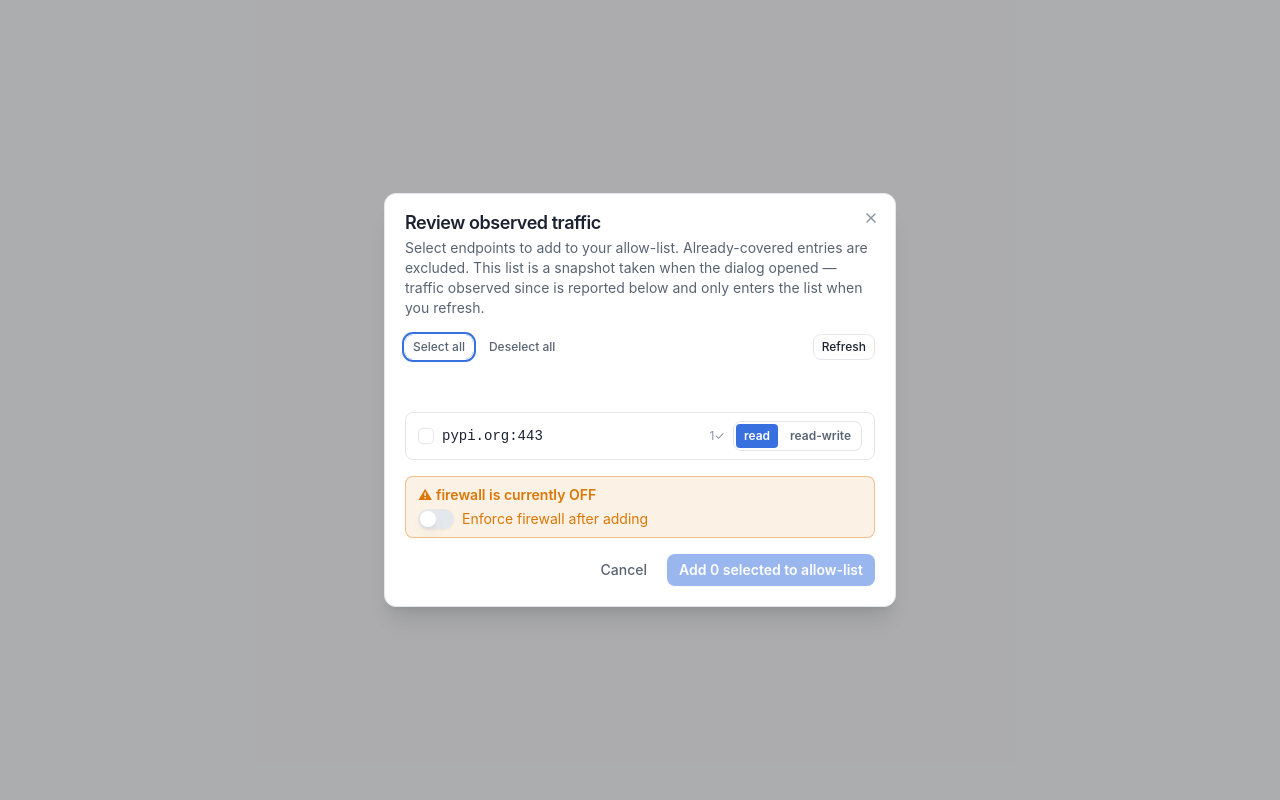
Test case: SeedDialog › surfaces an error and stays open when the apply fails
This screenshot has width=1280, height=800.
What coordinates should you click on to do the following:
click the button "Select all"
I would click on:
 (439, 347)
Its box is [405, 335, 473, 359].
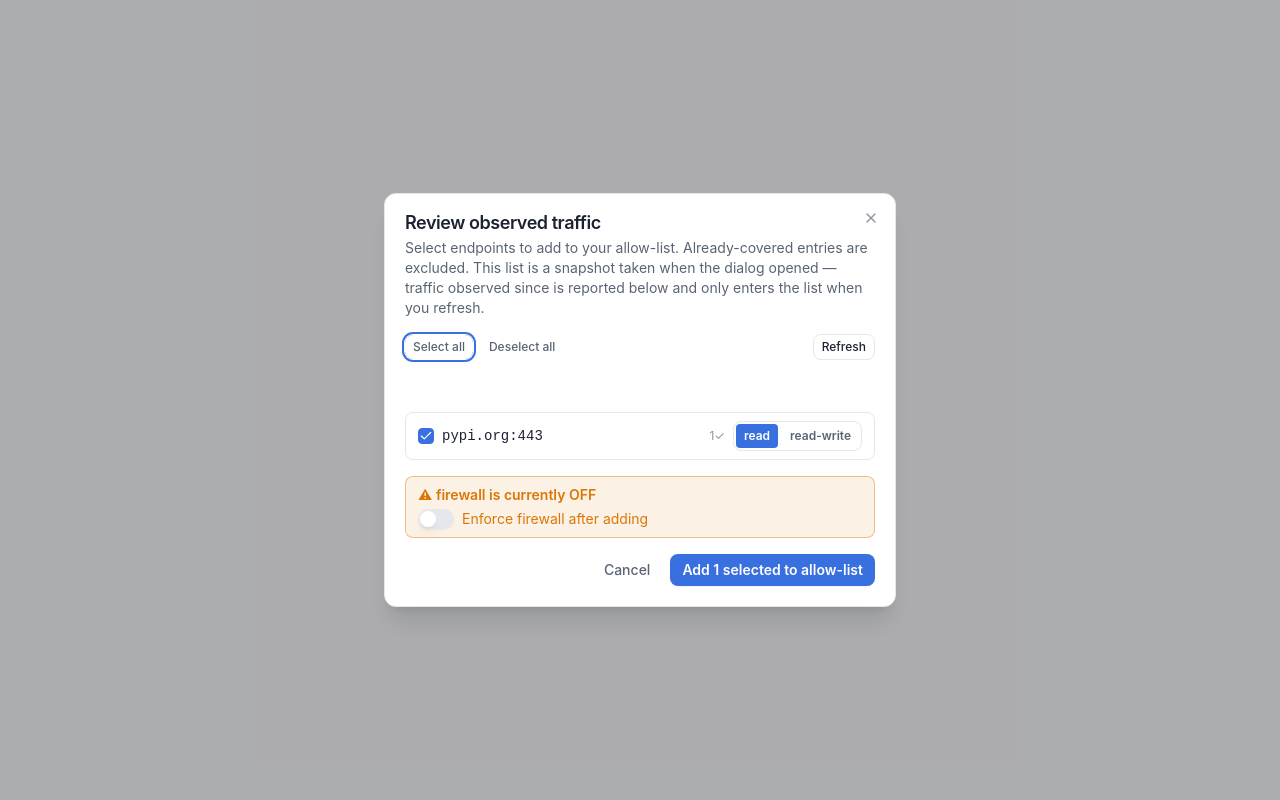
What coordinates should you click on to do the following:
click the button "Add 1 selected to allow-list"
I would click on:
 (773, 570)
Its box is [670, 554, 875, 586].
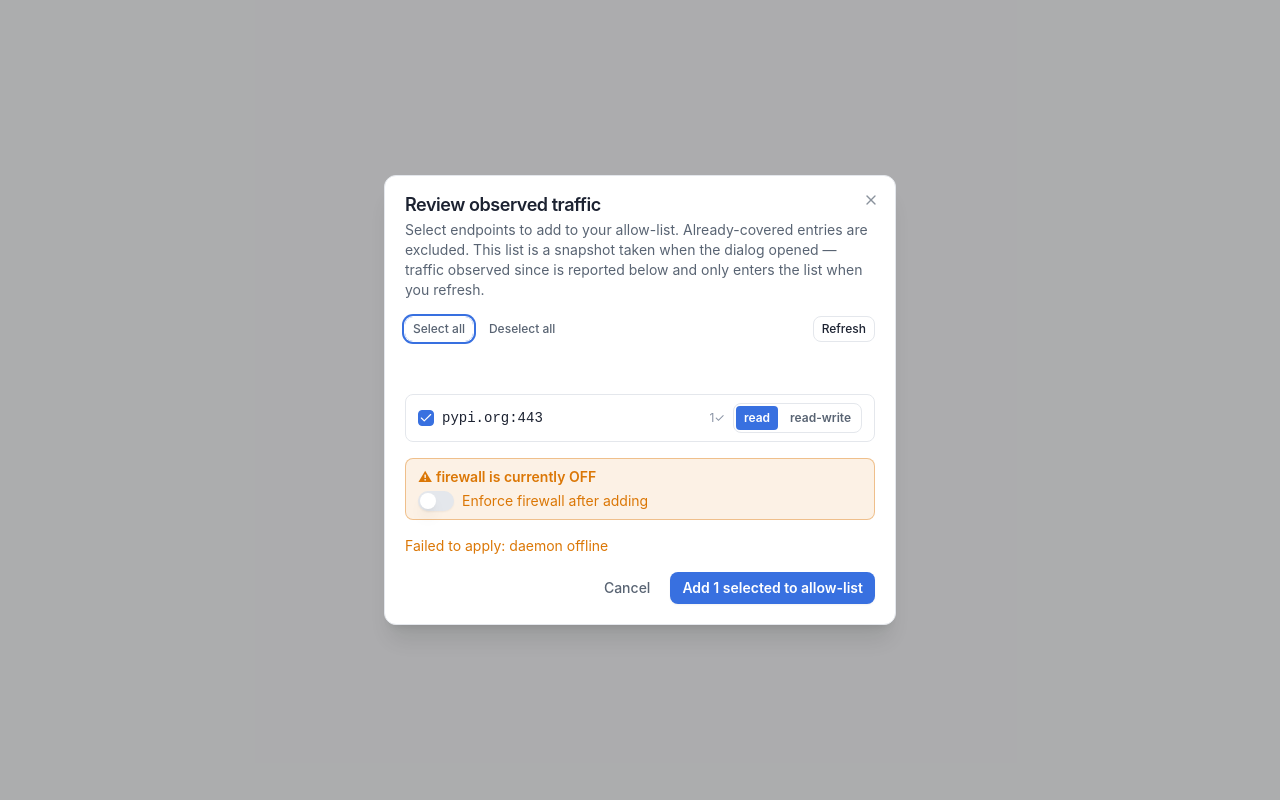
Expected: the message "Failed to apply: daemon offline" is shown, [405, 537, 608, 554]
